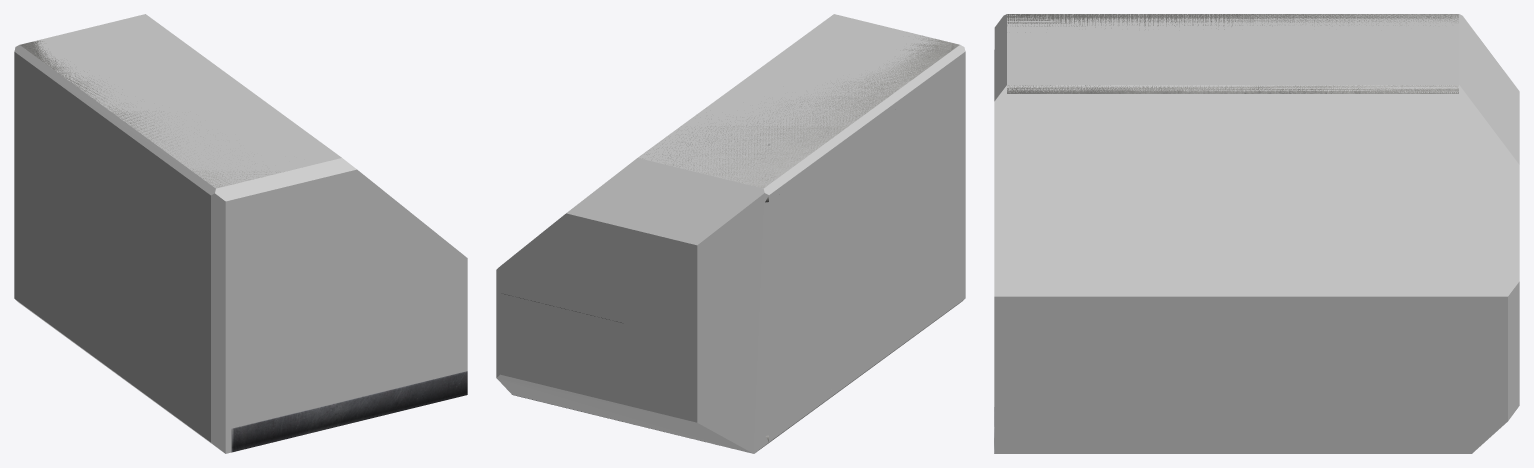
Rendered from SM_air_conditioning_01.fbx.
3 renders of one model, left to right at view 1: azimuth 30°, elevation 25°; view 2: azimuth 150°, elevation 25°; view 3: azimuth 270°, elevation 25°, orthographic. The views are drawn at different scales.
Parts seen in each view (by area): view 1: SM_air_conditioning_01_ConvexHulls, SM_air_conditioning_01; view 2: SM_air_conditioning_01_ConvexHulls, SM_air_conditioning_01; view 3: SM_air_conditioning_01_ConvexHulls, SM_air_conditioning_01.
Part boxes in pixels (bbox=[...]): SM_air_conditioning_01_ConvexHulls: bbox=[14, 14, 467, 453]; SM_air_conditioning_01: bbox=[20, 40, 467, 452]; SM_air_conditioning_01_ConvexHulls: bbox=[496, 14, 965, 453]; SM_air_conditioning_01: bbox=[504, 35, 959, 441]; SM_air_conditioning_01_ConvexHulls: bbox=[994, 14, 1519, 453]; SM_air_conditioning_01: bbox=[994, 14, 1458, 453].
Bounding box in the file's own units: 60.41 × 95.02 × 60.27.
2 materials, 1 textured.
